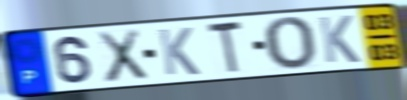6: (52, 34, 94, 86)
K: (316, 14, 363, 65), (156, 26, 202, 77)
O: (261, 15, 318, 73)
T: (205, 18, 245, 77)
X: (95, 27, 150, 85)
